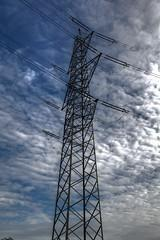power_tower: (49, 22, 110, 240)
